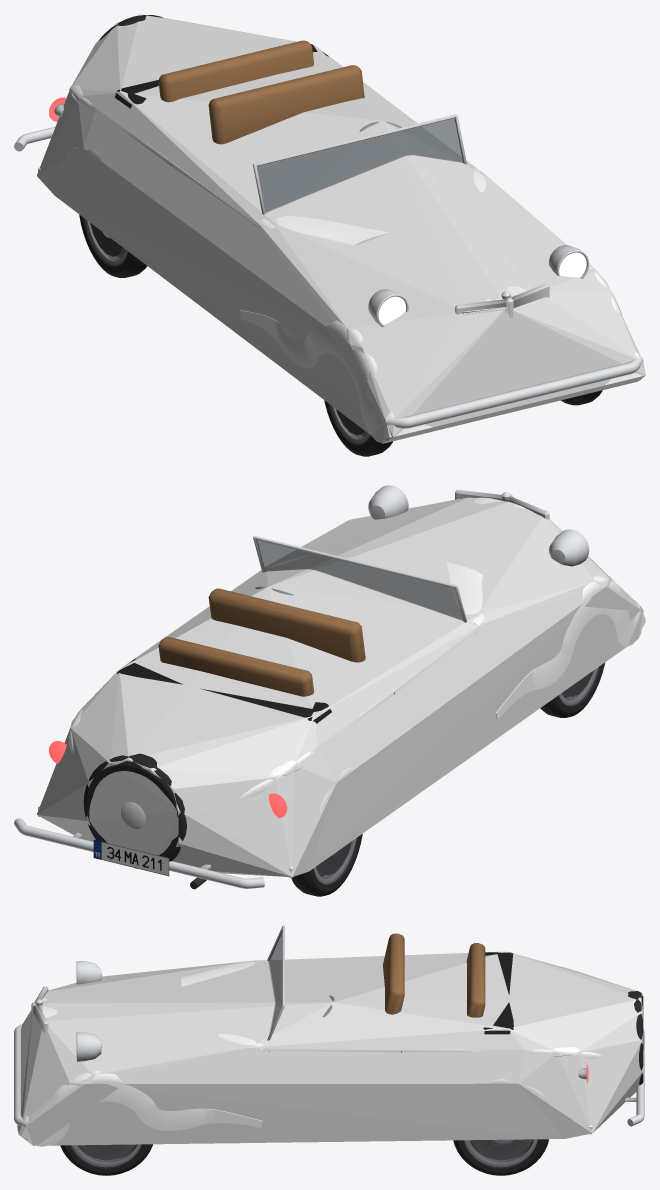
File: bosfor_moda_lod0.glb
3 views of the same model, one above another, from view 1: azimuth 30°, elevation 25°; view 2: azimuth 150°, elevation 25°; view 3: azimuth 270°, elevation 25° (orthographic). The views are drawn at different scales.
Parts seen in each view (by area): view 1: col_body, interior, body, glass, exhaust, wheel_RR, wheel_FR, lights_front, trim; view 2: col_body, interior, exhaust, body, glass, trim, wheel_RR, plate_rear, wheel_FR, lights_rear; view 3: col_body, body, exhaust, interior, wheel_RL, wheel_FL, trim, glass, brake_RL, brake_FL.
Part boxes in pixels (x1,y1,x2,y2): col_body: (37,14,645,443); interior: (158,40,364,144); body: (38,85,642,442); glass: (257,118,463,212); exhaust: (14,93,643,428); wheel_RR: (79,214,147,277); wheel_FR: (324,400,392,456); lights_front: (378,252,586,324); trim: (98,15,492,313); col_body: (37,497,645,877); interior: (158,588,365,696); exhaust: (14,485,643,889); body: (38,497,645,878); glass: (256,540,462,620); trim: (83,498,476,861); wheel_RR: (291,834,362,896); plate_rear: (93,840,169,876); wheel_FR: (540,662,605,717); lights_rear: (49,741,287,817); col_body: (18,951,643,1145); body: (17,960,602,1146); exhaust: (14,925,644,1127); interior: (383,933,485,1017); wheel_RL: (453,1139,548,1175); wheel_FL: (60,1144,152,1175); trim: (269,952,643,1084); glass: (268,931,282,1032); brake_RL: (472,1139,529,1160); brake_FL: (80,1144,133,1160).
Bounding box in the file's own units: 1.77 × 1.39 × 4.64.
11 materials, 1 textured.
